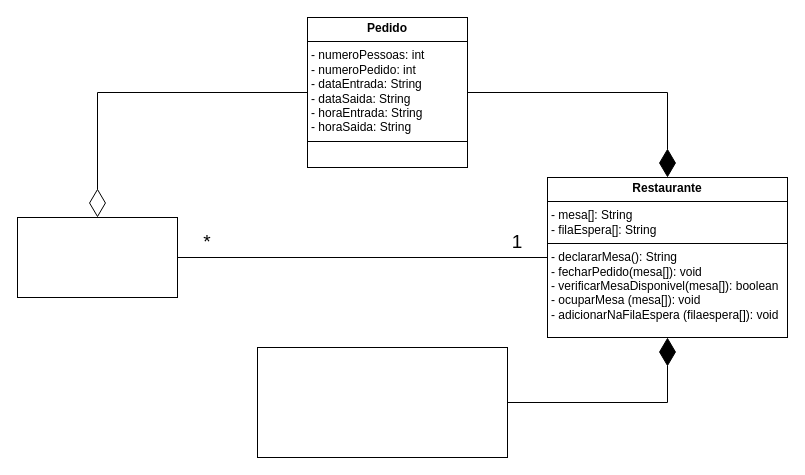
This 805x475 diagram has some shape labels left out. The shapes that lost their labels are listed below. From the top down, each one's centre as x and y in pixels, then its label:
point 97,257: Cliente - numPedido: int
point 382,402: Mesa - numMesa: int - capacidade: String - disponibilidade: boolean
